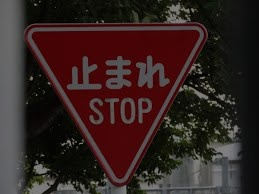Regulatory_sign_triangle: (21, 21, 220, 187)
